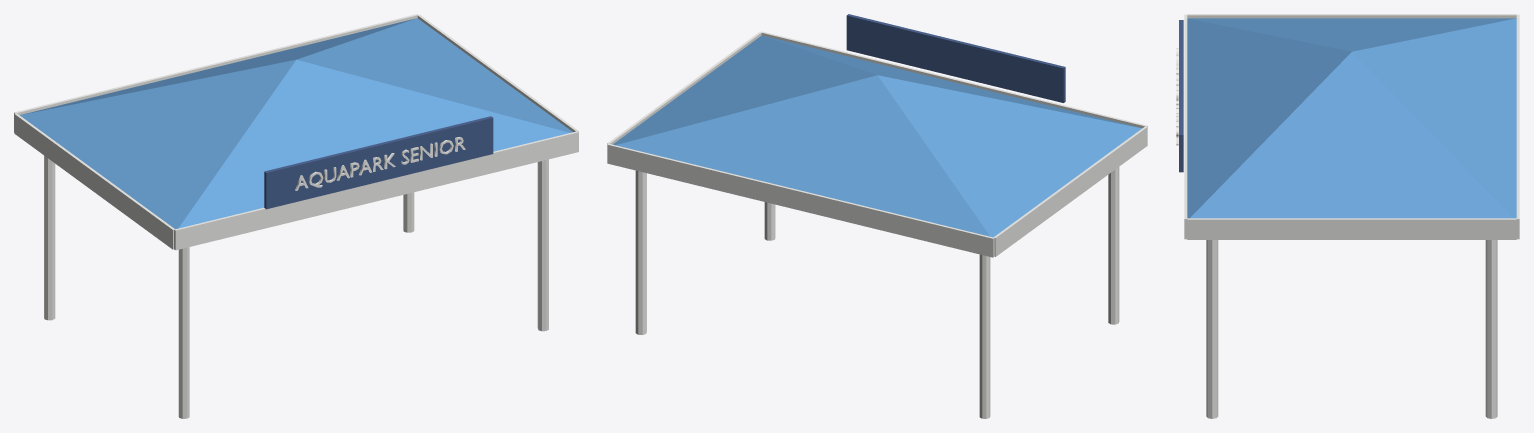
The model's file is CR_Torre_Techo.fbx.
3 views of the same model, side by side, from view 1: azimuth 30°, elevation 25°; view 2: azimuth 150°, elevation 25°; view 3: azimuth 270°, elevation 25° (orthographic). The views are drawn at different scales.
Visible parts, largest first — view 1: CR_Torre_Techo; view 2: CR_Torre_Techo; view 3: CR_Torre_Techo.
Boxes of the visible parts, x1=… form: CR_Torre_Techo: x1=14, y1=14, x2=578, y2=418; CR_Torre_Techo: x1=607, y1=14, x2=1147, y2=418; CR_Torre_Techo: x1=1176, y1=14, x2=1519, y2=418.
Size of the model in its own units: 6.44 by 4 by 4.55.
